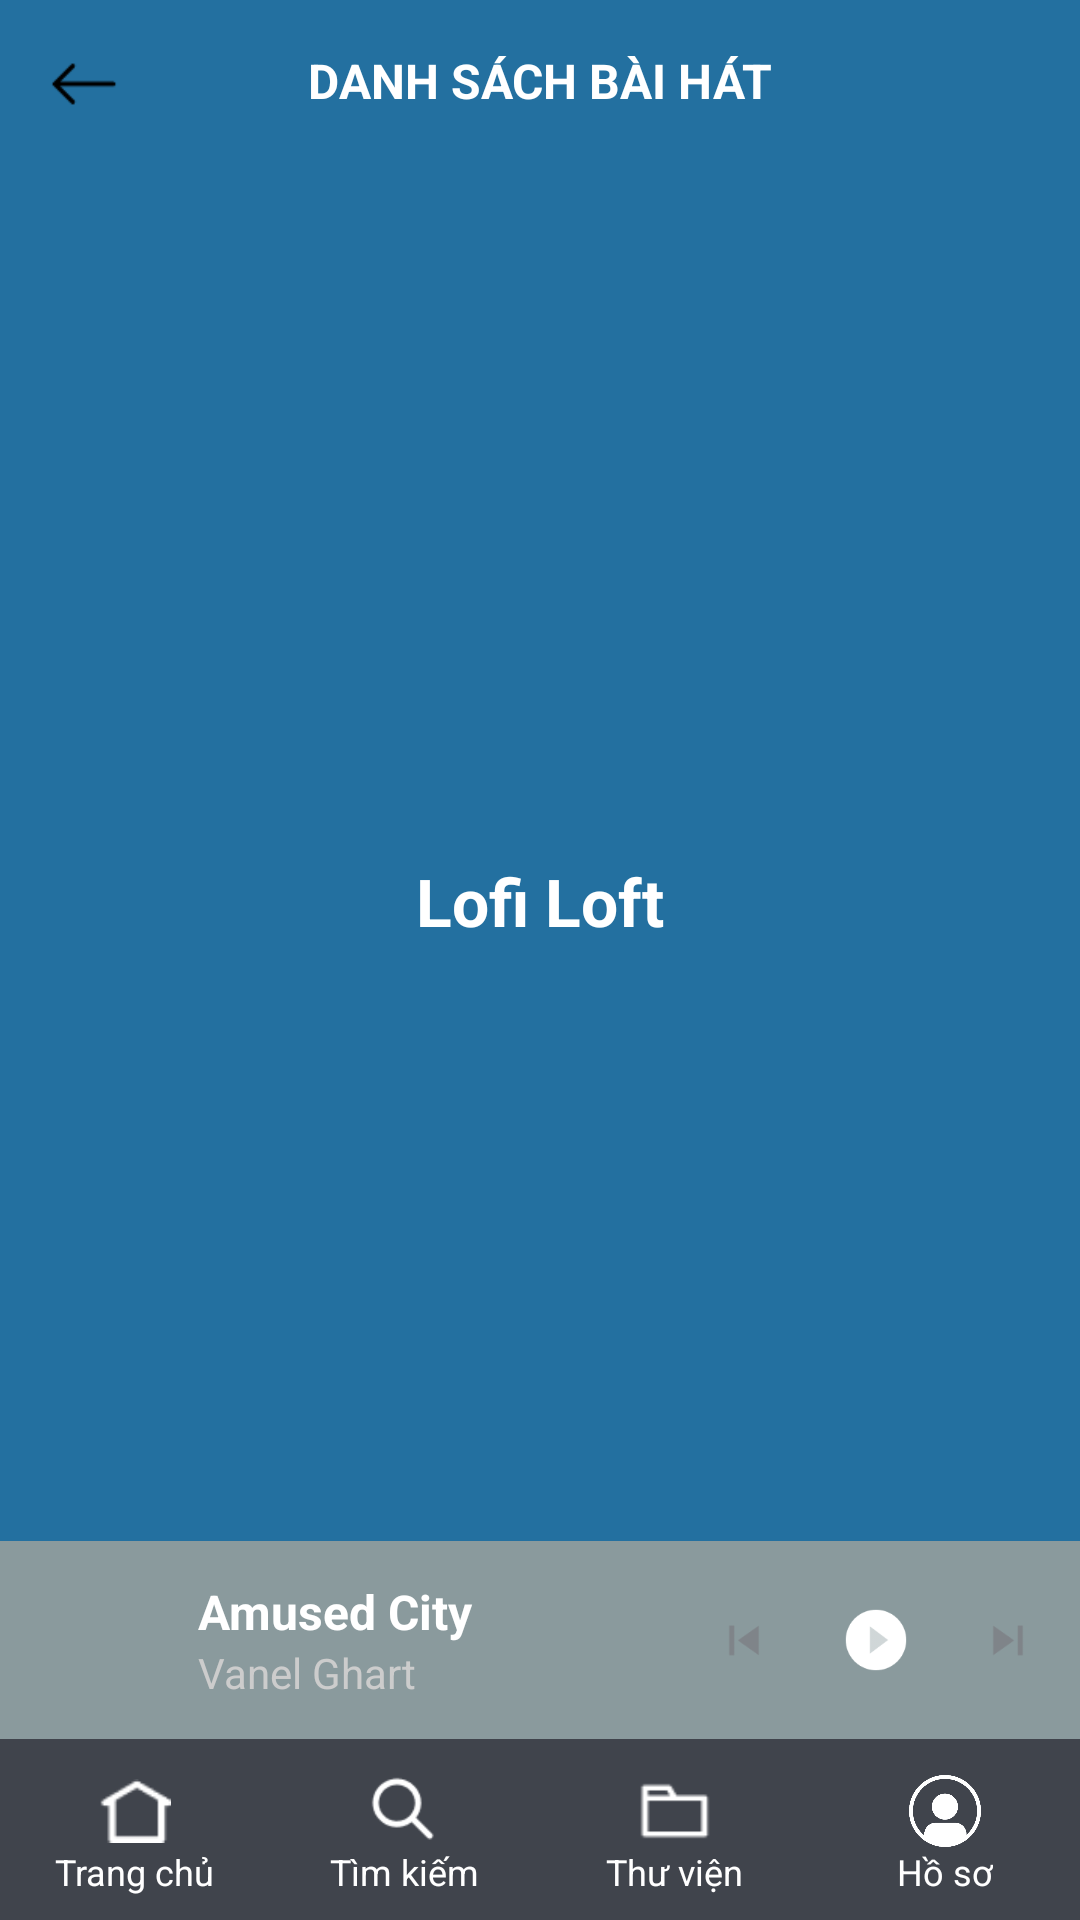

Named icons in this screenshot (1080 × 1920) and their bounding boxes, box(x1, y1, x2, y2):
back: box(52, 63, 116, 105)
Play/Pause: box(846, 1610, 906, 1670)
